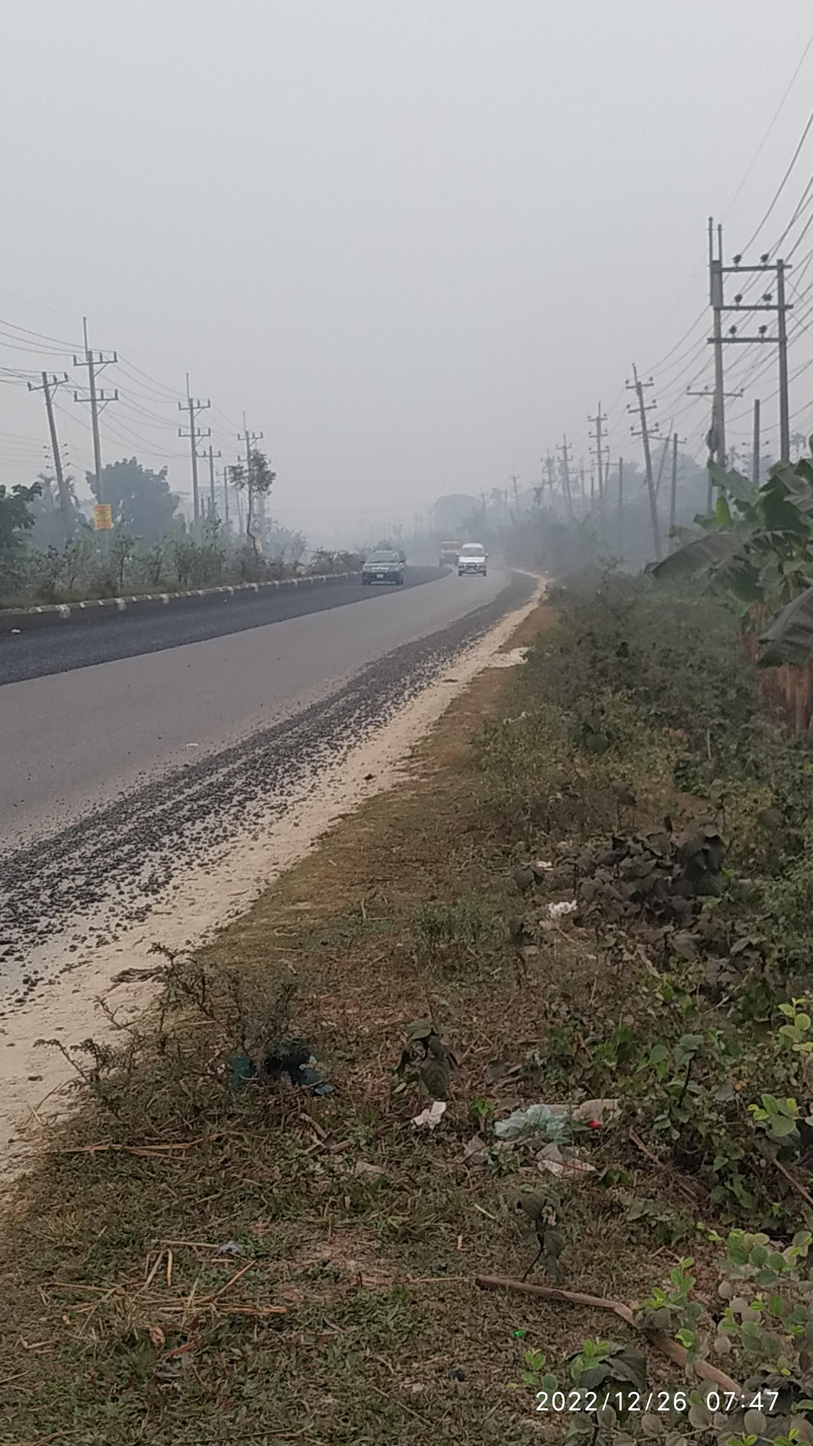Car: (354, 536, 414, 593), (448, 535, 498, 581)
Truck: (434, 530, 461, 571)
